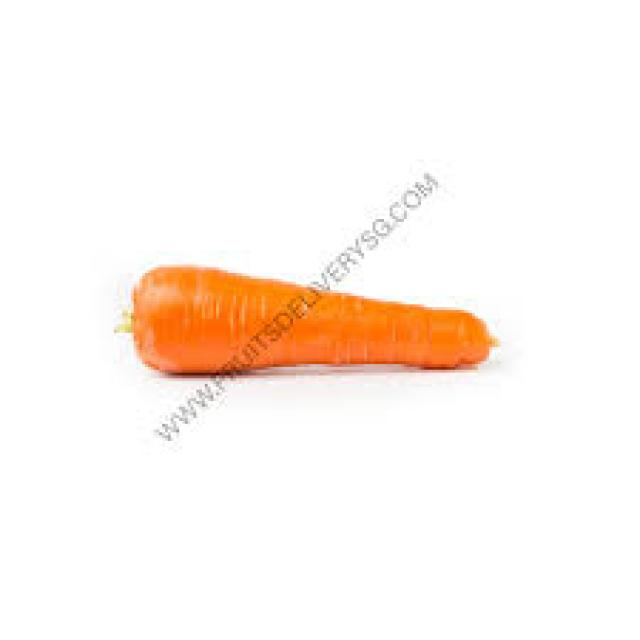carrot: (114, 262, 498, 376)
